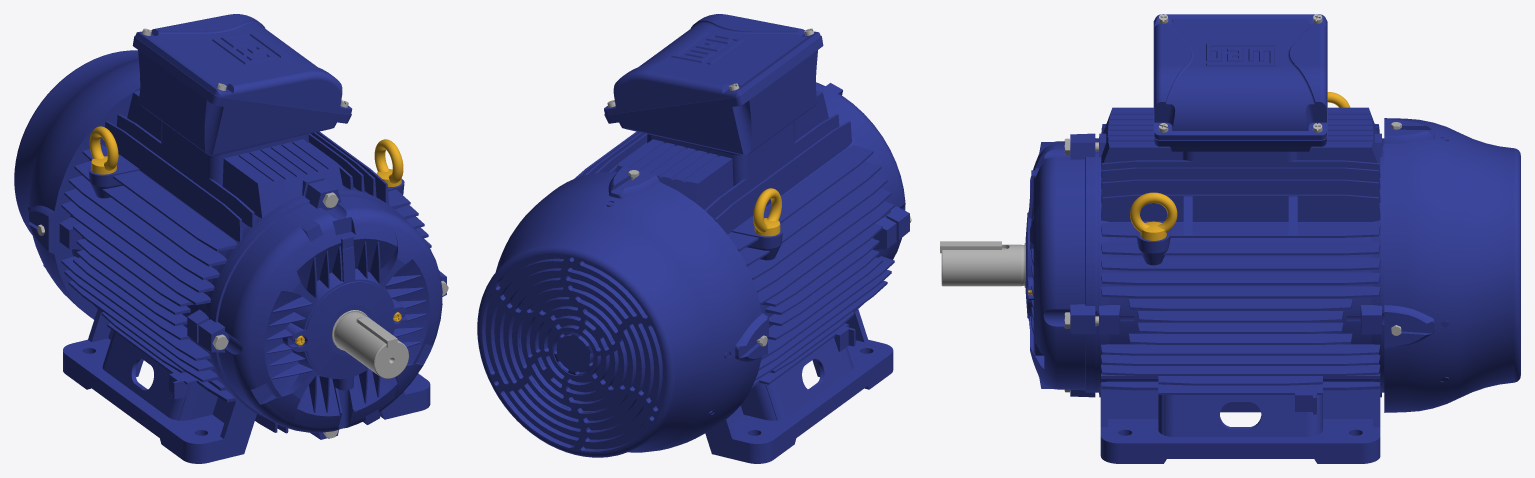
Rendered from motor weg v3.fbx.
The picture shows the model from 3 angles, left to right: view 1: azimuth 30°, elevation 25°; view 2: azimuth 150°, elevation 25°; view 3: azimuth 270°, elevation 25°; orthographic projection. The views are drawn at different scales.
Parts seen in each view (by area): view 1: Body1, Body14, Body3, Body8, Body7, Body13, Body24, Body23; view 2: Body1, Body3, Body2, Body8, Body7, Body14, Body24; view 3: Body1, Body3, Body8, Body14, Body13, Body7, Body23, Body2.
Part boxes in pixels (x1,y1,x2,y2): Body1: (59,90,431,463); Body14: (198,179,446,439); Body3: (14,50,140,319); Body8: (135,14,352,114); Body7: (132,36,351,155); Body13: (332,310,408,378); Body24: (89,126,118,174); Body23: (374,139,403,186); Body1: (574,90,896,463); Body3: (481,167,767,457); Body2: (477,247,673,457); Body8: (604,14,820,114); Body7: (604,36,823,155); Body14: (816,82,909,259); Body24: (753,188,781,236); Body1: (1097,107,1384,463); Body3: (1384,118,1516,412); Body8: (1154,14,1326,139); Body14: (1025,133,1096,397); Body13: (940,241,1025,287); Body7: (1153,20,1327,151); Body23: (1130,192,1177,240); Body2: (1517,149,1520,381).
Size of the model in its own units: 413 by 519 by 768.
